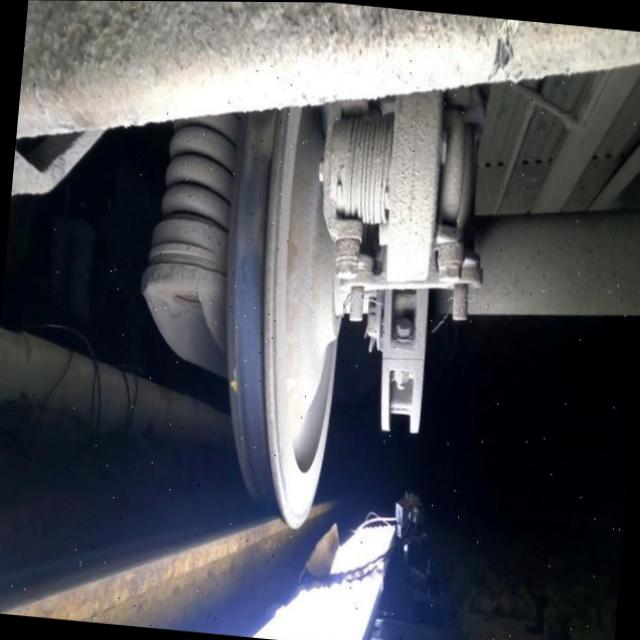Cracks-Scratches: (230, 368, 237, 392)
Shelling: (236, 114, 275, 262)
Wheel: (225, 107, 339, 529)
